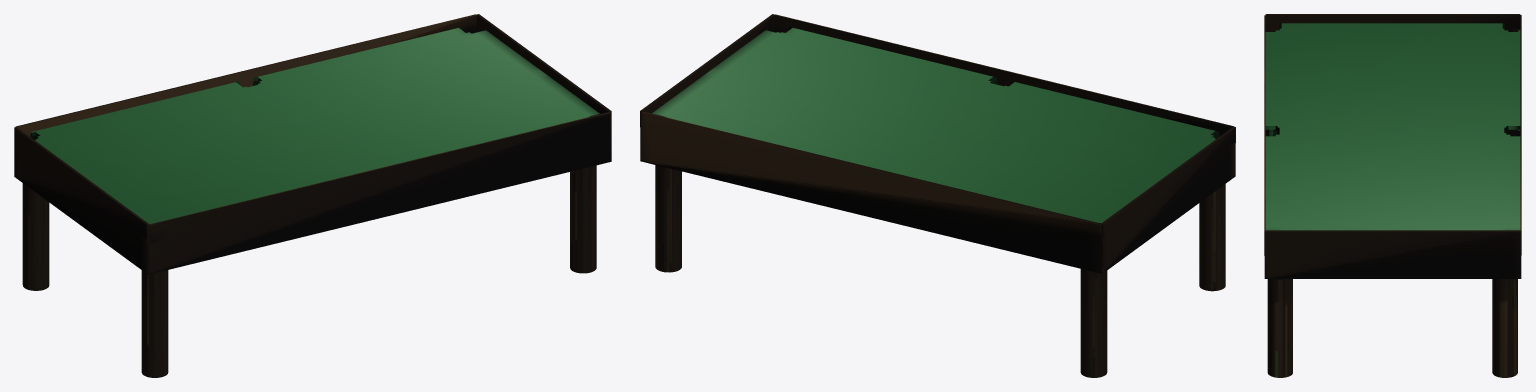
The model's file is Pool-table.glb.
3 renders of one model, left to right at view 1: azimuth 30°, elevation 25°; view 2: azimuth 150°, elevation 25°; view 3: azimuth 270°, elevation 25°, orthographic. The views are drawn at different scales.
Size of the model in its own units: 4.04 by 1.31 by 2.02.
1 material, 1 textured.
